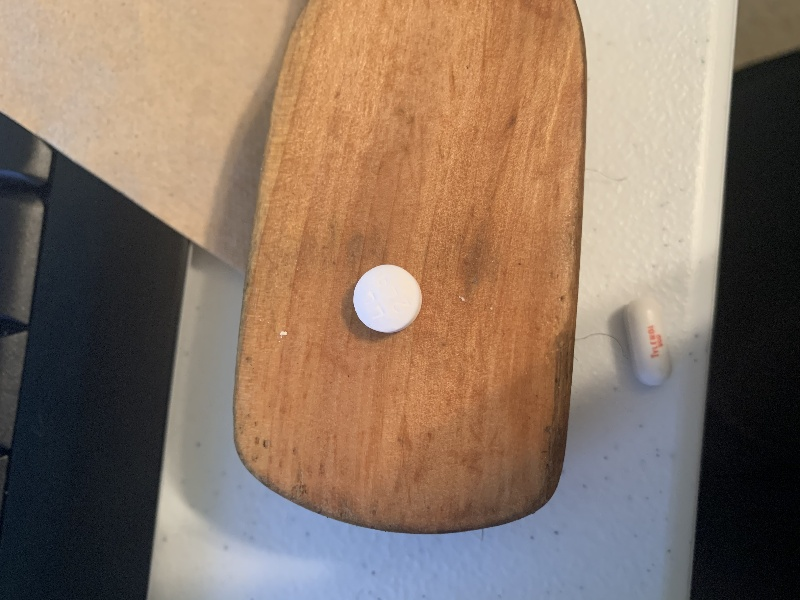Aspirin: (350, 256, 424, 340)
Tylenol: (618, 294, 680, 393)
